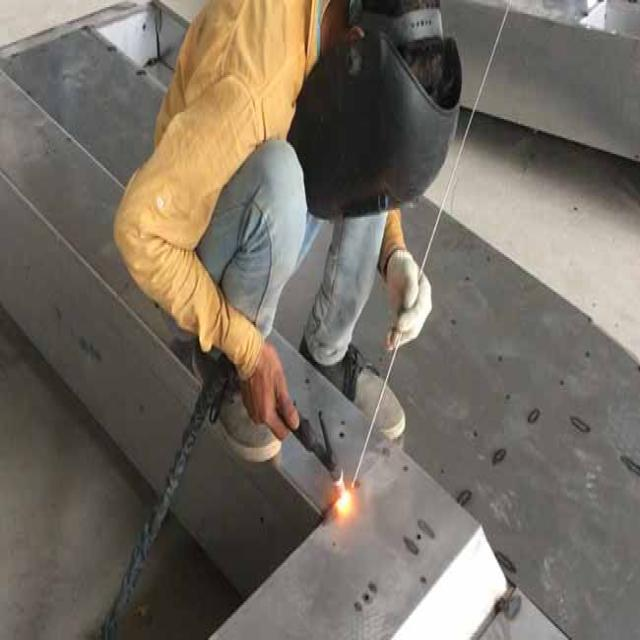with_helmet: (288, 5, 461, 221)
